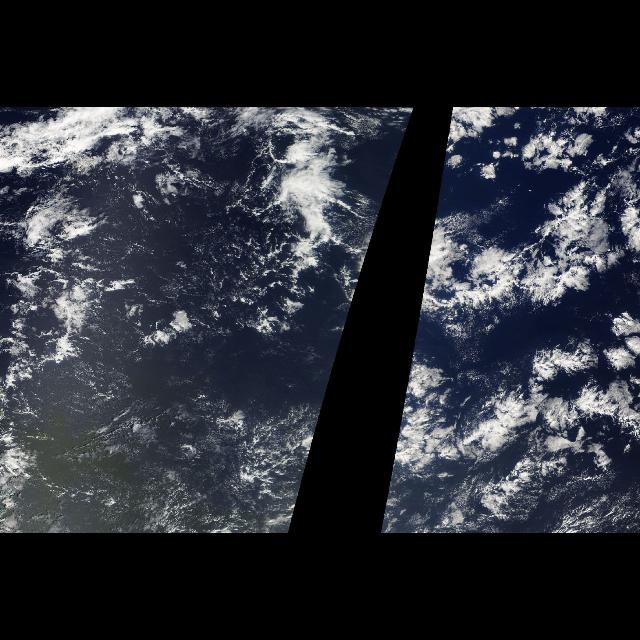Fish: (414, 188, 622, 322), (250, 107, 358, 347)
Flower: (383, 126, 631, 516), (242, 126, 408, 516)
Sugar: (42, 353, 242, 533), (106, 209, 258, 351)
